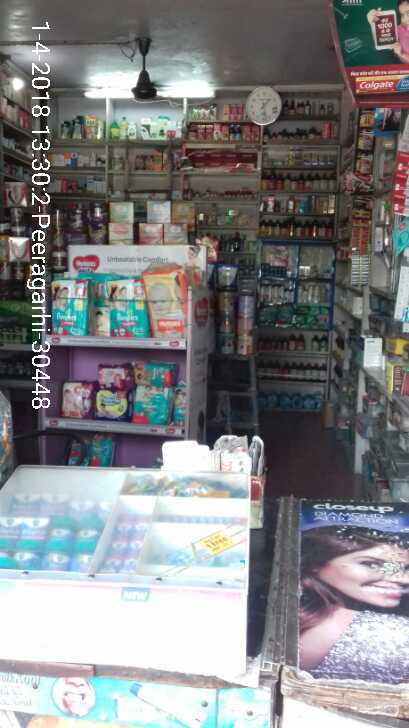vicks: (1, 467, 162, 576)
